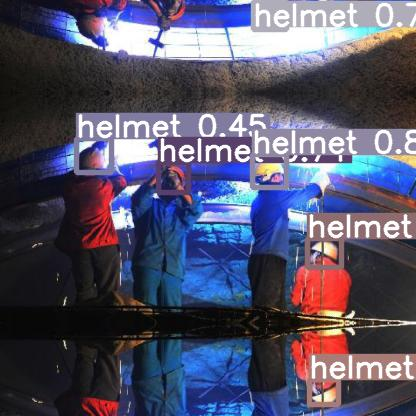helmet: (76, 138, 111, 172), (252, 154, 286, 187), (307, 238, 341, 267), (253, 1, 286, 29), (158, 162, 188, 192), (309, 379, 338, 404)
